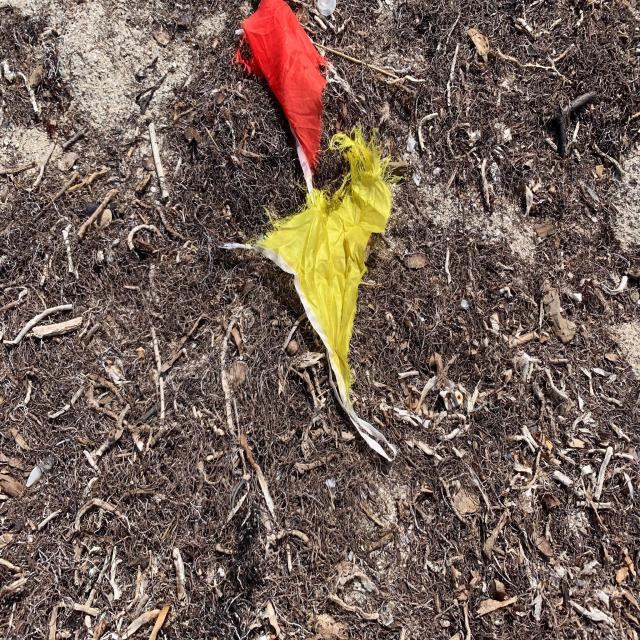litter: (218, 3, 405, 471)
